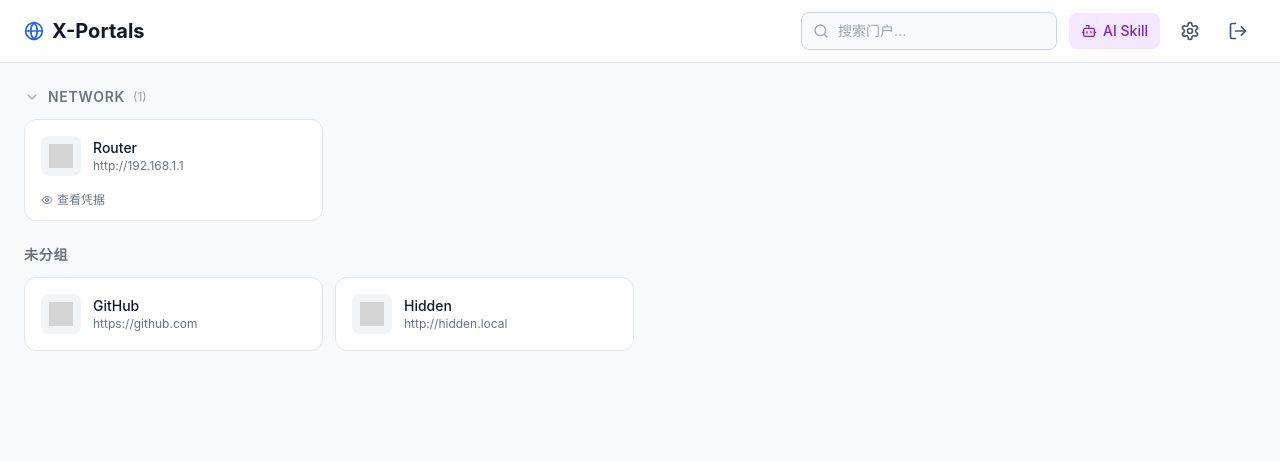
Test: Home page › shows credentials toggle for portals with account
What coordinates should you click on to do the following:
click the button "查看凭据"
I would click on:
 (73, 200)
Its box is left=41, top=192, right=105, bottom=208.
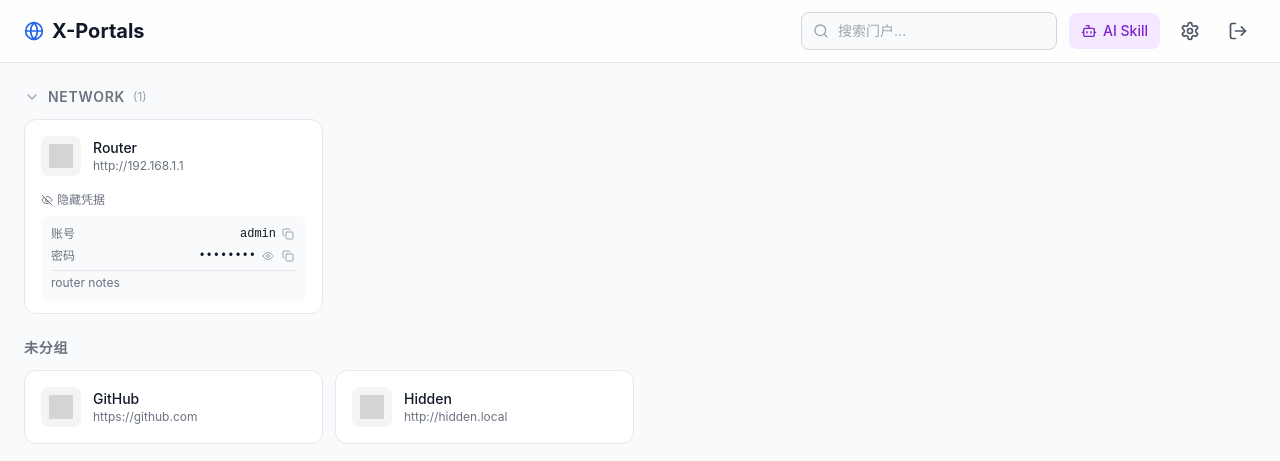
Check: the text "admin" is shown, box left=240, top=226, right=276, bottom=242
Check: the text "••••••••" is shown, box left=198, top=248, right=256, bottom=264
Check: the text "router notes" is shown, box left=51, top=275, right=120, bottom=290
